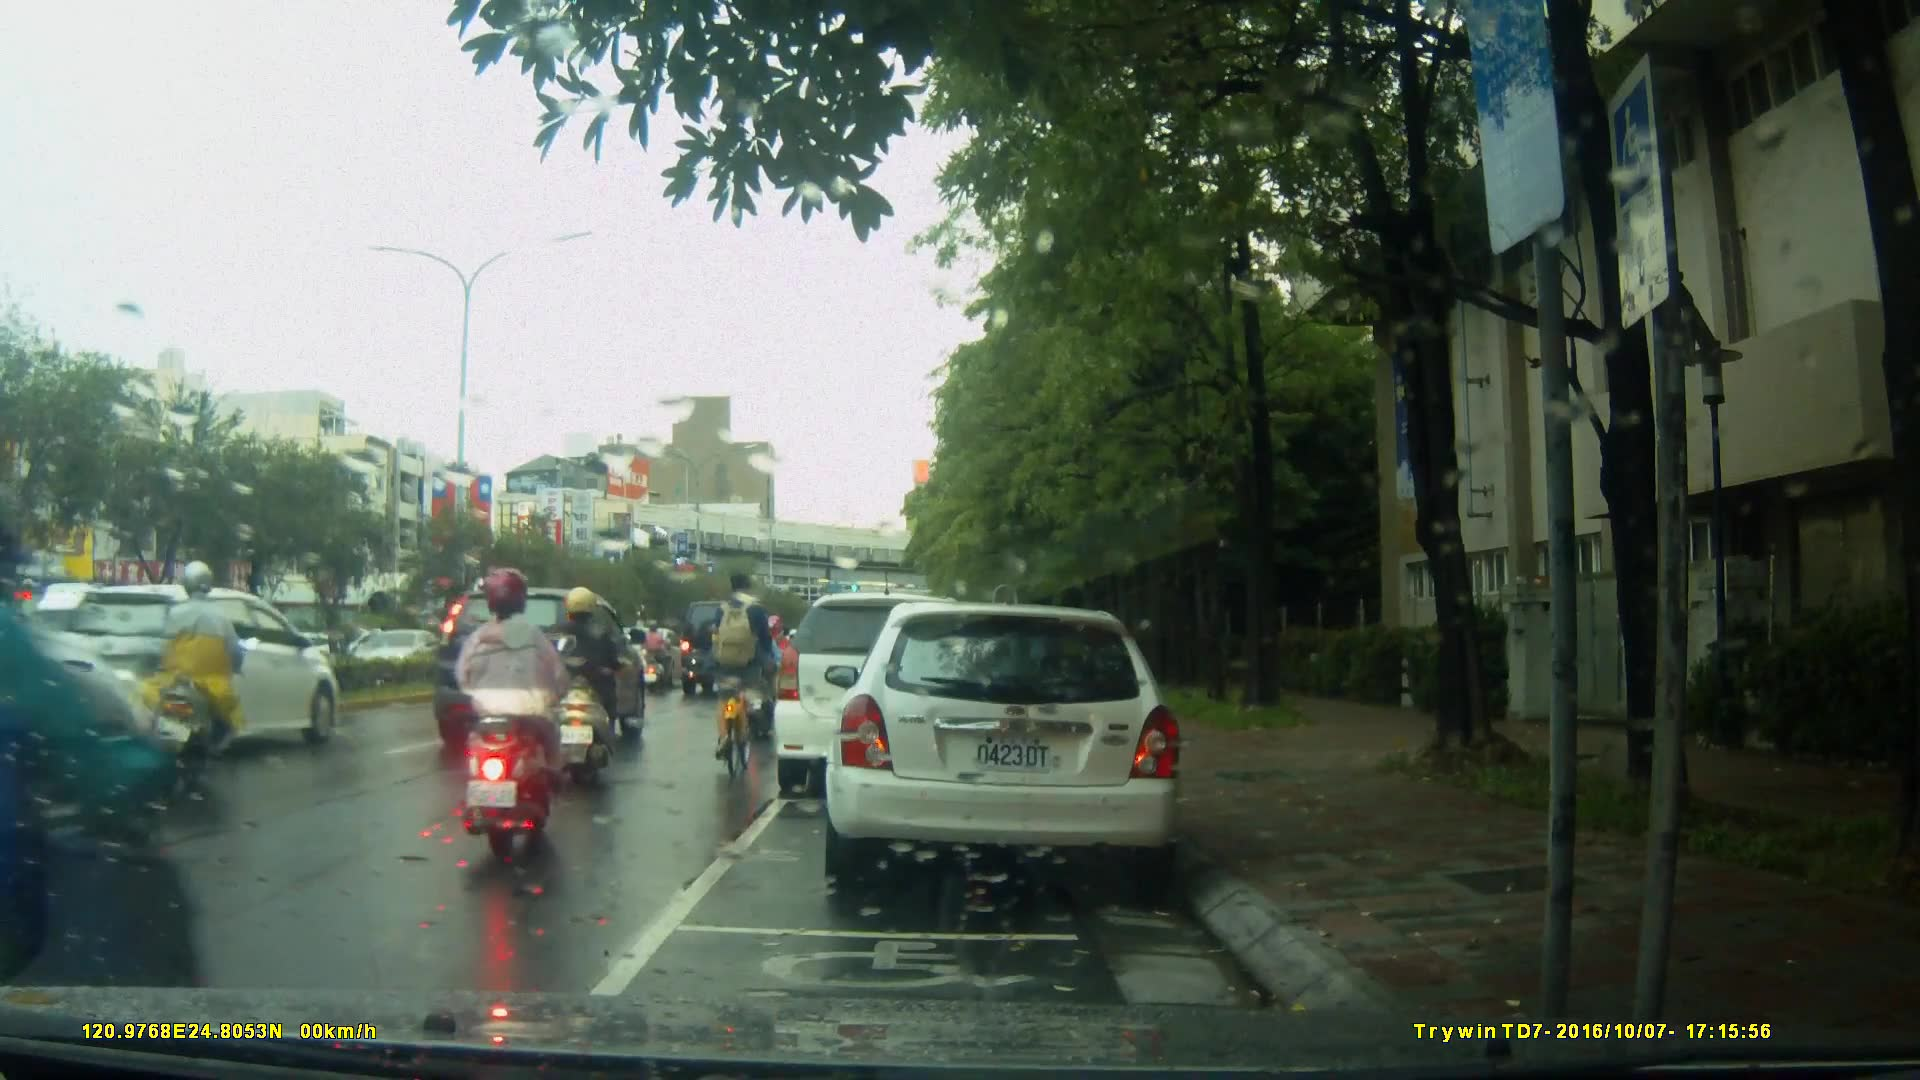rider: (1, 478, 205, 1080), (444, 565, 576, 854), (143, 553, 261, 811), (710, 573, 776, 784), (548, 586, 619, 781), (752, 610, 803, 723), (640, 616, 672, 698)
vehicle: (822, 604, 1188, 883), (31, 584, 331, 754), (774, 595, 995, 802), (423, 587, 650, 767)
